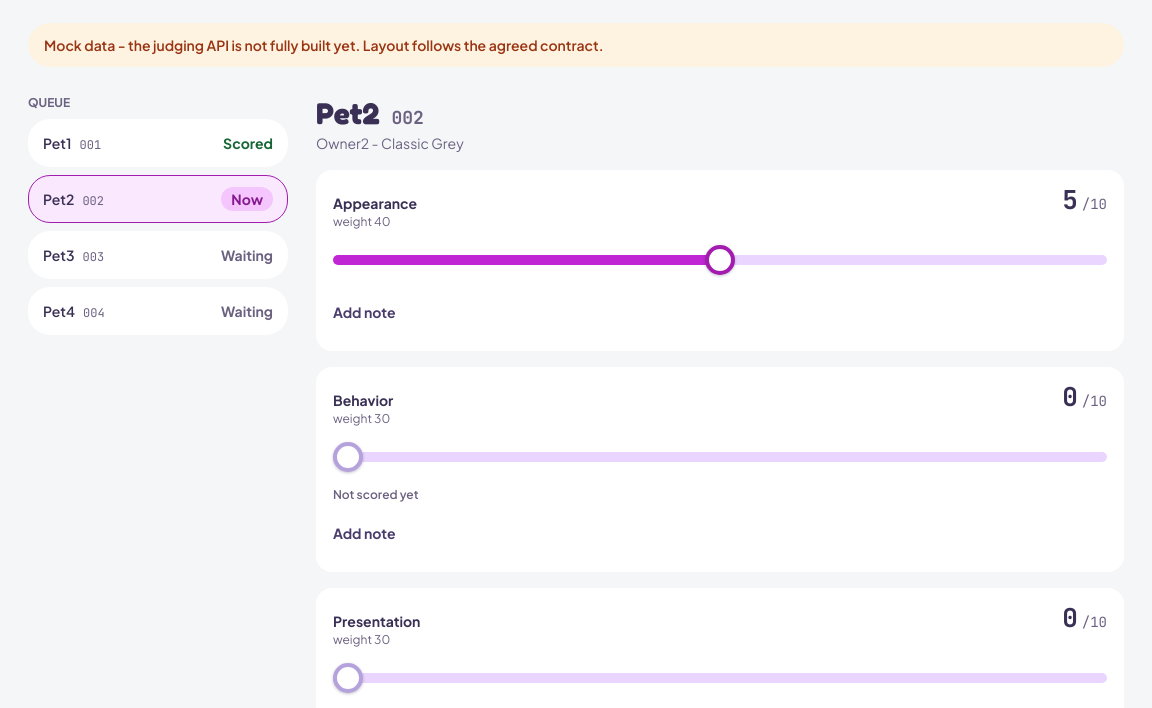
Test case: LiveJudging: queue › lists the queue with statuses, opens the first unscored one and switches freely
Expected: the text "Mock data" is shown, [44,36,604,54]
Expected: the button "Pet1 001 Scored" is shown, [28,119,288,167]
What coordinates should you click on to do the following:
click the button "Pet3 003 Waiting"
I would click on:
 (59, 254)
Its box is [28,231,288,279].
(page scrolled)
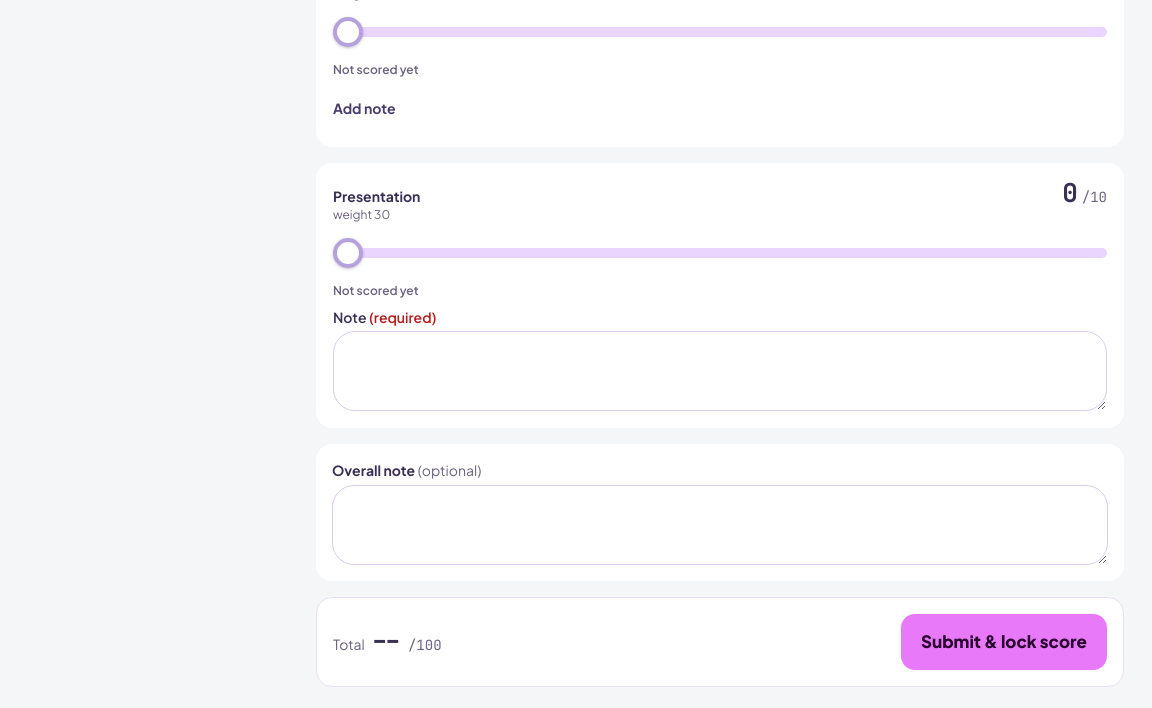
Expected: the text "Not scored yet" is shown 3 times
Expected: the text with test id "total" reads "--", [371,623,402,658]
